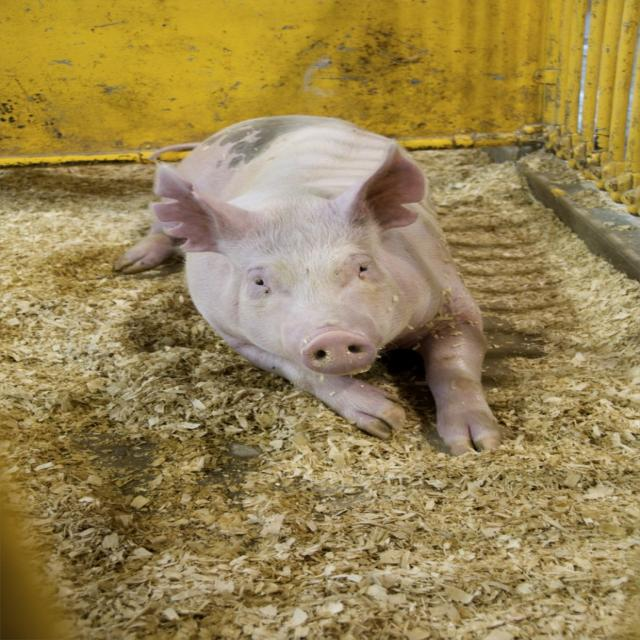Pig: (108, 114, 507, 454)
